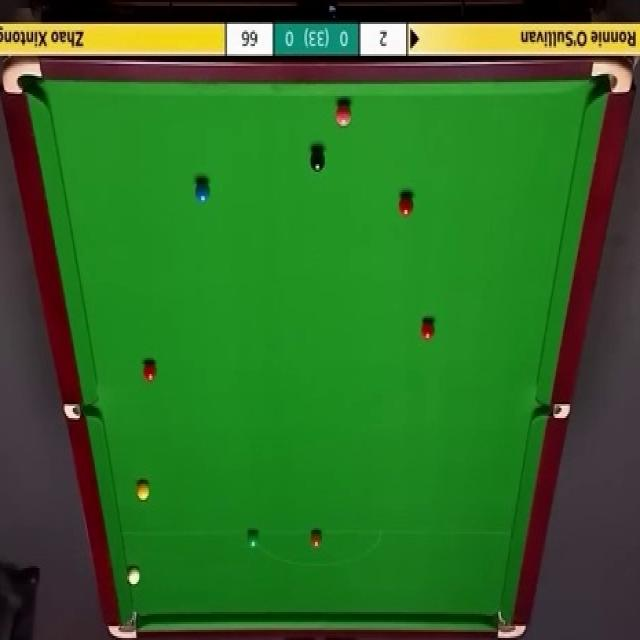pocket: (0, 56, 43, 98), (591, 60, 633, 95), (490, 604, 524, 638), (110, 608, 141, 640), (64, 400, 101, 422), (535, 405, 573, 420)
